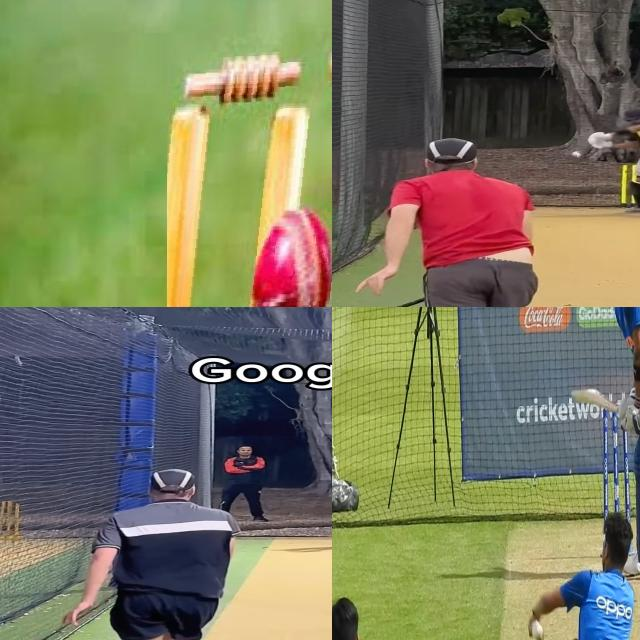Cricket ball: (270, 202, 332, 307), (530, 616, 543, 640), (570, 151, 583, 158)
Stumps: (167, 52, 332, 307)
